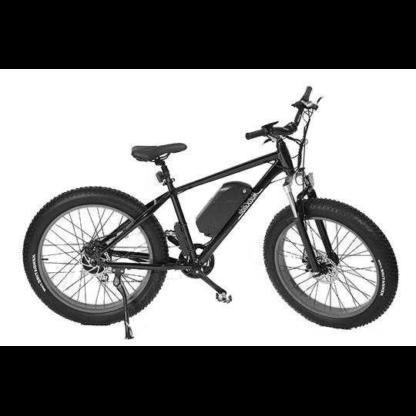Bicycle: (14, 97, 414, 343)
